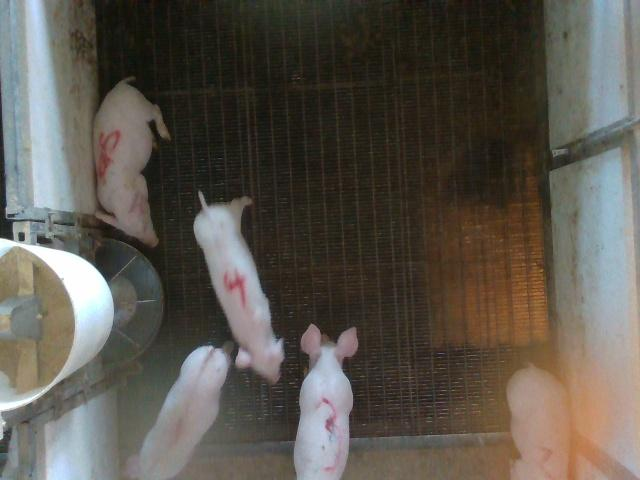pig-1: (125, 346, 230, 479)
pig-3: (294, 325, 358, 479)
pig-4: (194, 191, 284, 384)
pig-5: (94, 78, 170, 246)
